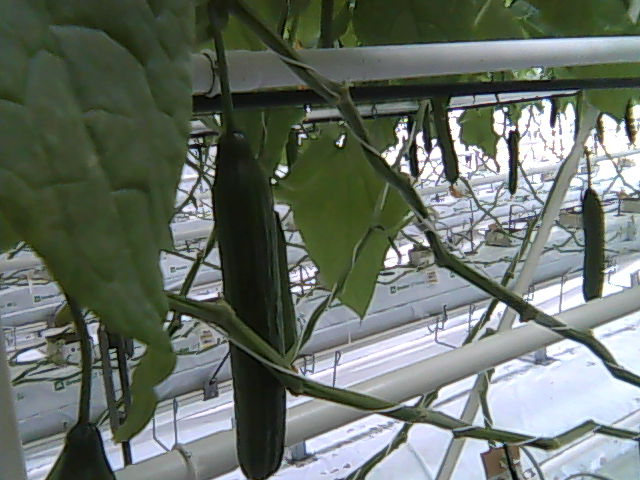concombre: (208, 122, 291, 480), (46, 419, 122, 480)
